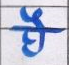ai_matra: (20, 7, 49, 28)
